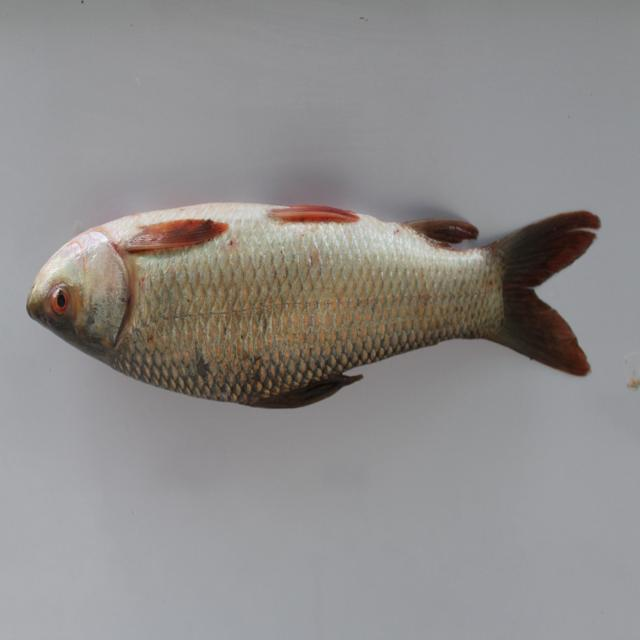Rohu: (19, 186, 624, 420)
